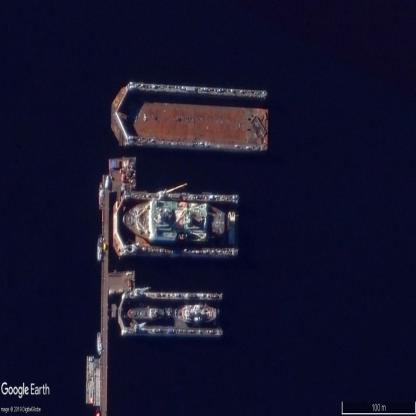ship: (122, 200, 230, 244), (174, 303, 219, 325), (126, 305, 172, 322), (98, 180, 104, 210), (97, 232, 103, 261), (96, 330, 102, 356)
